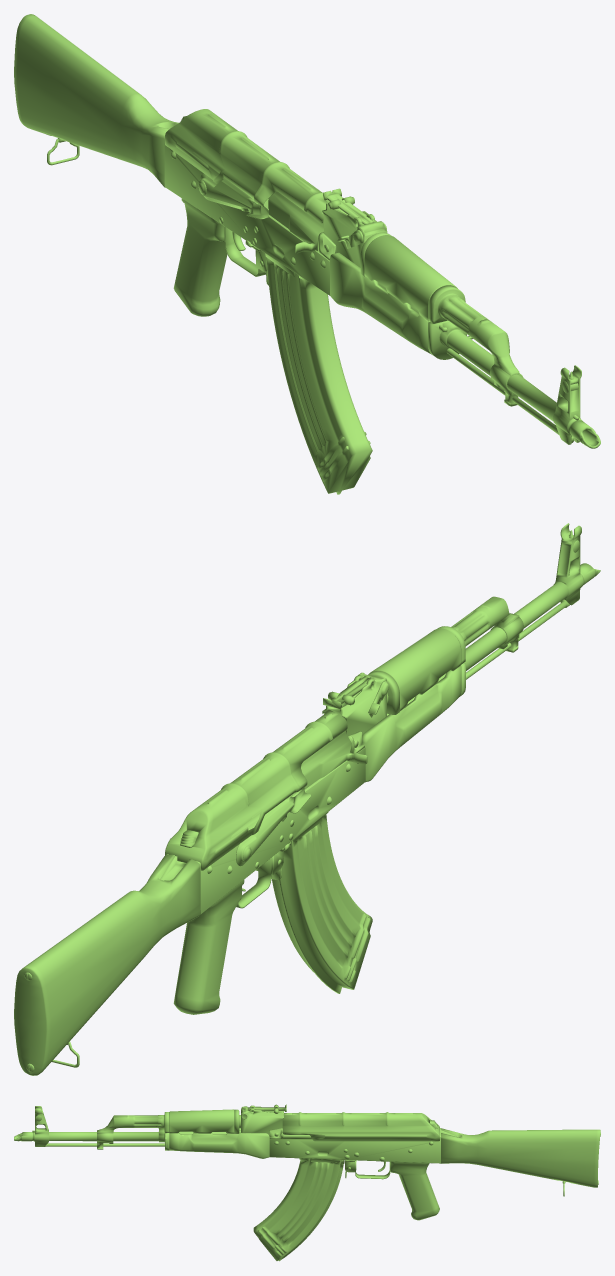
The model's file is WPN_AKM_FIXED.fbx.
The picture shows the model from 3 angles, top to bottom: view 1: azimuth 30°, elevation 25°; view 2: azimuth 150°, elevation 25°; view 3: azimuth 270°, elevation 25°; orthographic projection. The views are drawn at different scales.
Visible parts, largest first — view 1: WPN_AKM, WPN_AKM_magazine, WPN_AKM_bolt_carrier, WPN_AKM_safetyswitch, WPN_AKM_rear_sight_leaf; view 2: WPN_AKM, WPN_AKM_magazine, WPN_AKM_bolt_carrier, WPN_AKM_safetyswitch; view 3: WPN_AKM, WPN_AKM_magazine.
Part boxes in pixels (<box>): WPN_AKM: <box>14,14,600,448</box>; WPN_AKM_magazine: <box>265,253,372,494</box>; WPN_AKM_bolt_carrier: <box>268,191,323,253</box>; WPN_AKM_safetyswitch: <box>198,173,268,219</box>; WPN_AKM_rear_sight_leaf: <box>323,188,373,224</box>; WPN_AKM: <box>14,523,600,1075</box>; WPN_AKM_magazine: <box>272,812,372,993</box>; WPN_AKM_bolt_carrier: <box>301,731,367,789</box>; WPN_AKM_safetyswitch: <box>236,787,310,866</box>; WPN_AKM: <box>14,1105,600,1220</box>; WPN_AKM_magazine: <box>253,1158,344,1261</box>.
Size of the model in its own units: 0.0568 by 0.2558 by 0.8806.
